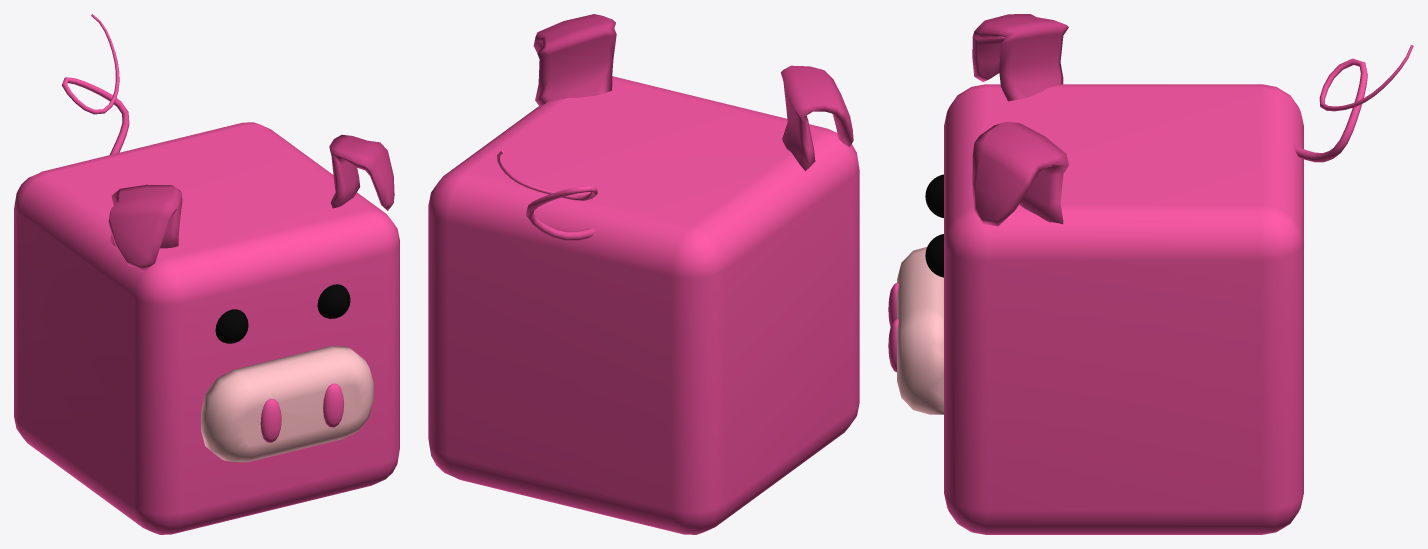
Rendered from Pig.fbx.
3 views of the same model, side by side, from view 1: azimuth 30°, elevation 25°; view 2: azimuth 150°, elevation 25°; view 3: azimuth 270°, elevation 25° (orthographic). The views are drawn at different scales.
Visible parts, largest first — view 1: Pig; view 2: Pig; view 3: Pig.
Part boxes in pixels (x1=…): Pig: x1=14, y1=14, x2=399, y2=534; Pig: x1=428, y1=14, x2=859, y2=534; Pig: x1=888, y1=14, x2=1413, y2=534.
Size of the model in its own units: 1.06 by 1.32 by 1.46.
